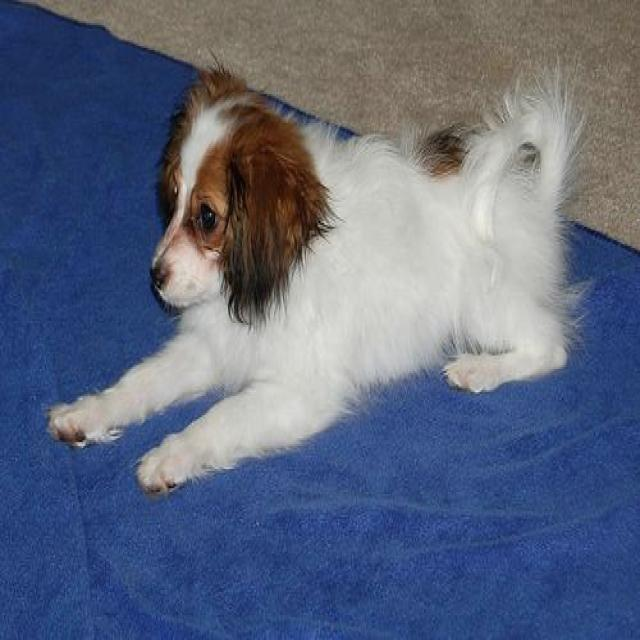papillon: (44, 59, 600, 503)
